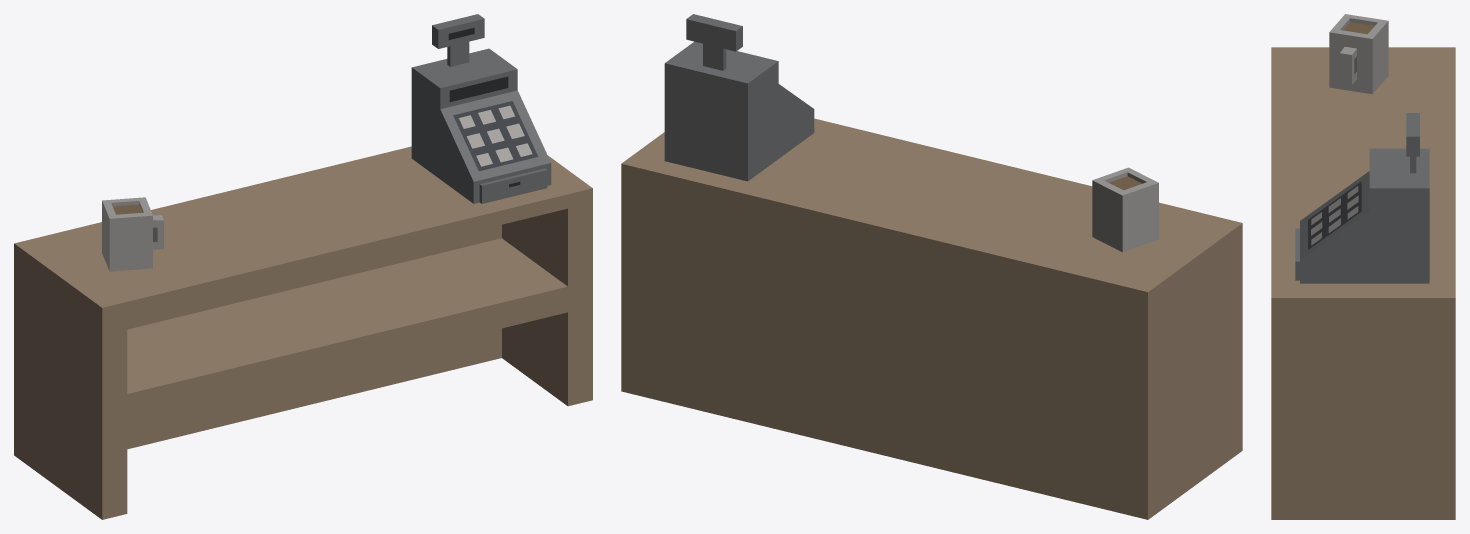
Rendered from SM_Prop_ShopInterior_Desk_01.glb.
3 views of the same model, side by side, from view 1: azimuth 30°, elevation 25°; view 2: azimuth 150°, elevation 25°; view 3: azimuth 270°, elevation 25° (orthographic). The views are drawn at different scales.
Parts seen in each view (by area): view 1: SM_Prop_ShopInterior_Desk_01; view 2: SM_Prop_ShopInterior_Desk_01; view 3: SM_Prop_ShopInterior_Desk_01.
Boxes of the visible parts, left/top/right/bottom form: SM_Prop_ShopInterior_Desk_01: left=14, top=14, right=592, bottom=519; SM_Prop_ShopInterior_Desk_01: left=621, top=14, right=1242, bottom=519; SM_Prop_ShopInterior_Desk_01: left=1271, top=14, right=1455, bottom=519.
Size of the model in its own units: 0.0161 by 0.0108 by 0.005.
Materials: 1 (1 with a texture image).
